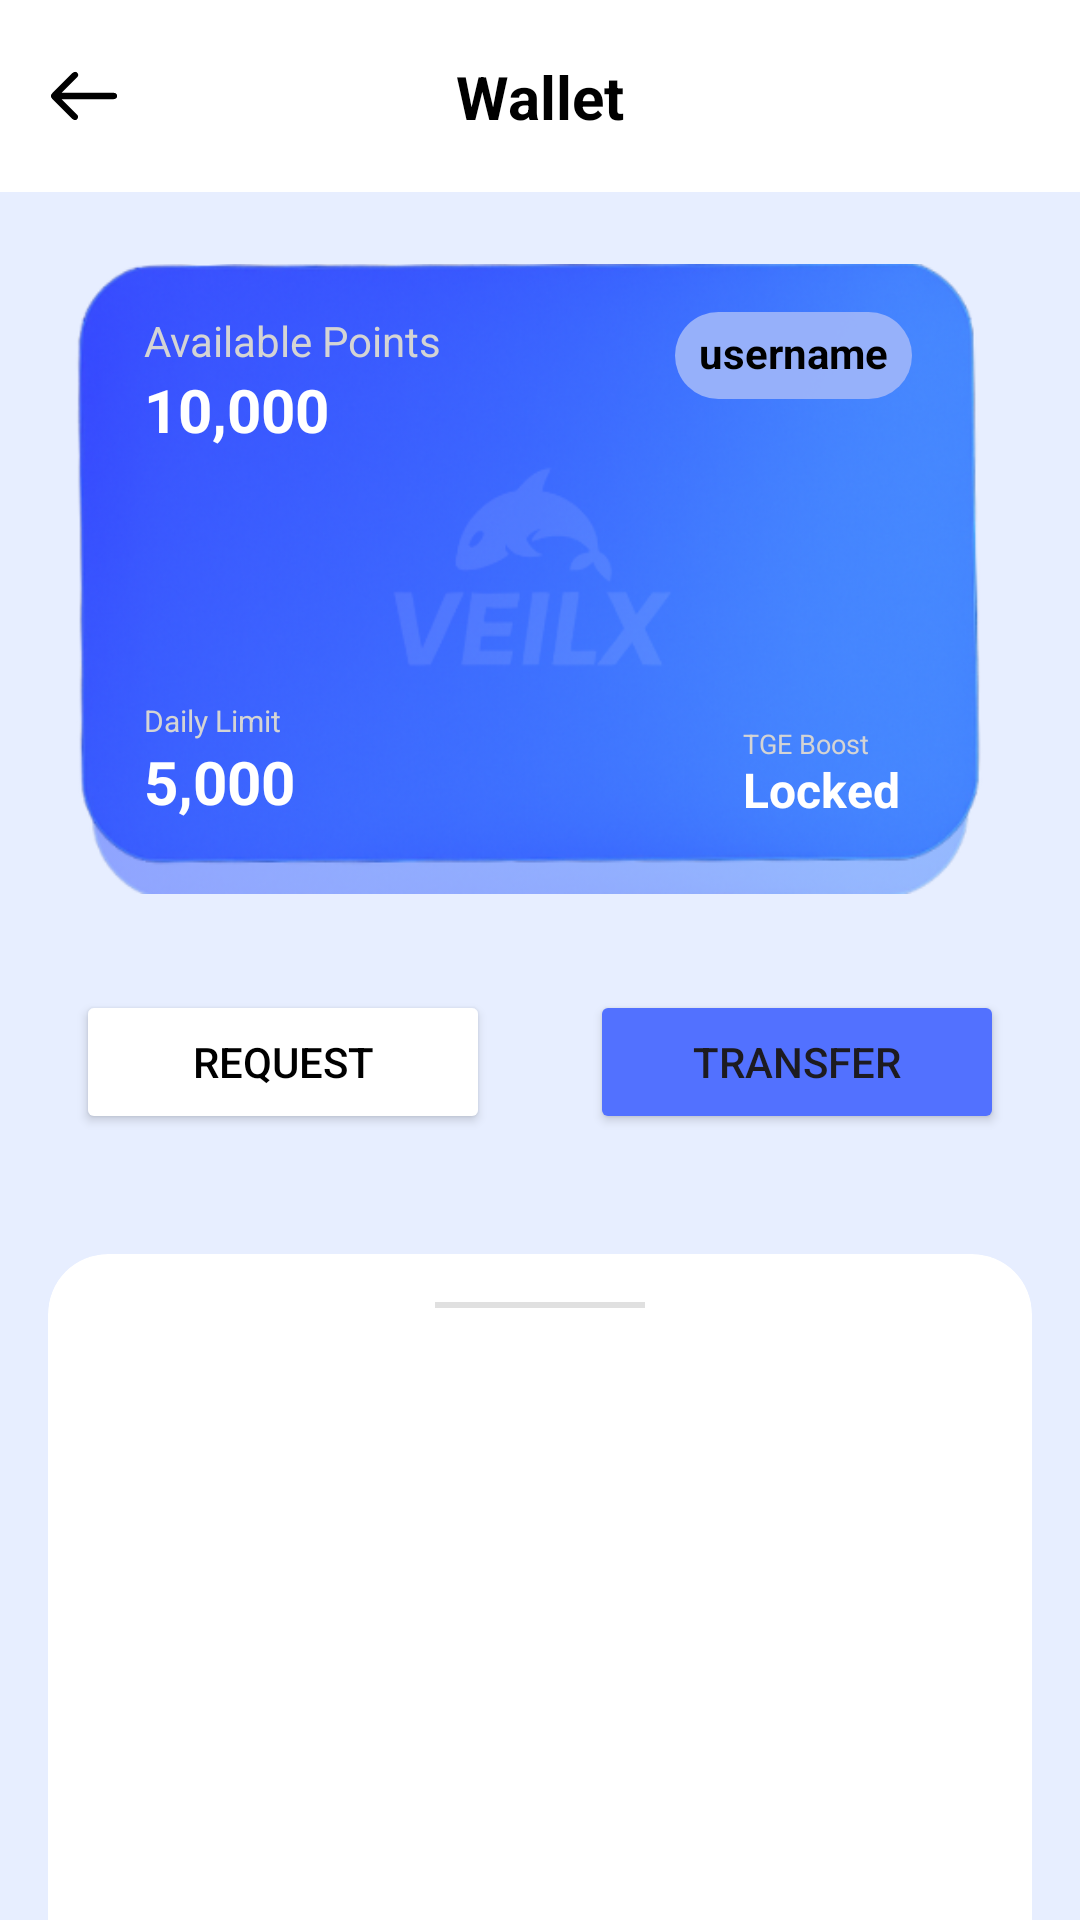

Screen size 1080×1920. Icon name, then its center in pixels as point (x, y):
back: point (84, 96)
